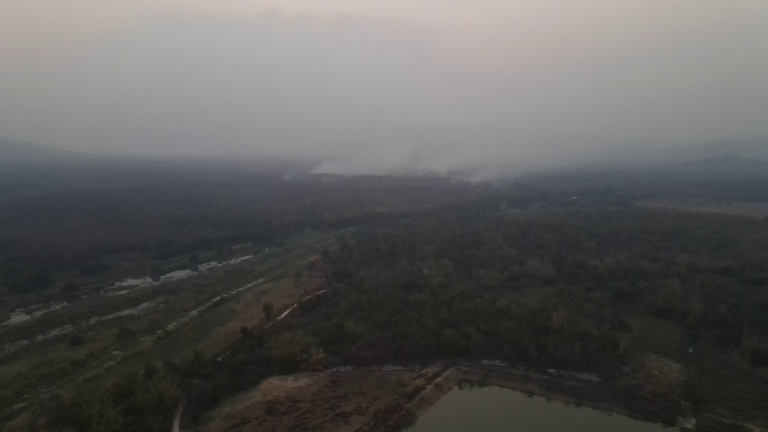smoke: (307, 116, 556, 183)
